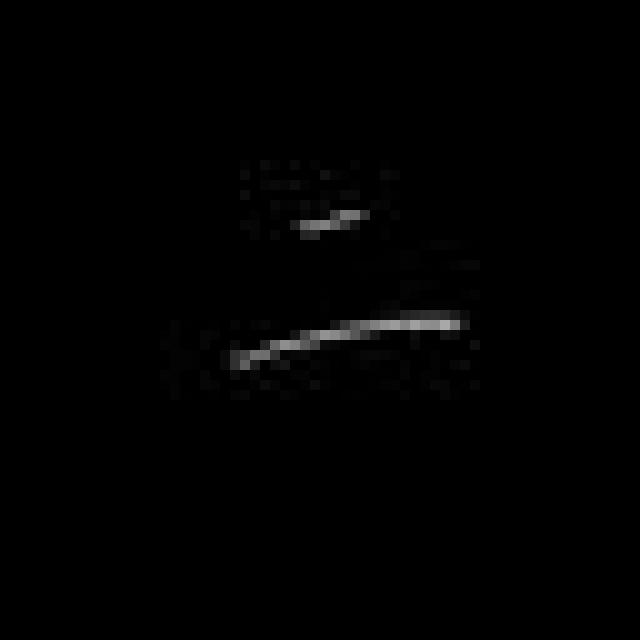2 -two-: (218, 192, 482, 388)
